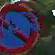No waiting: (0, 1, 38, 54)
